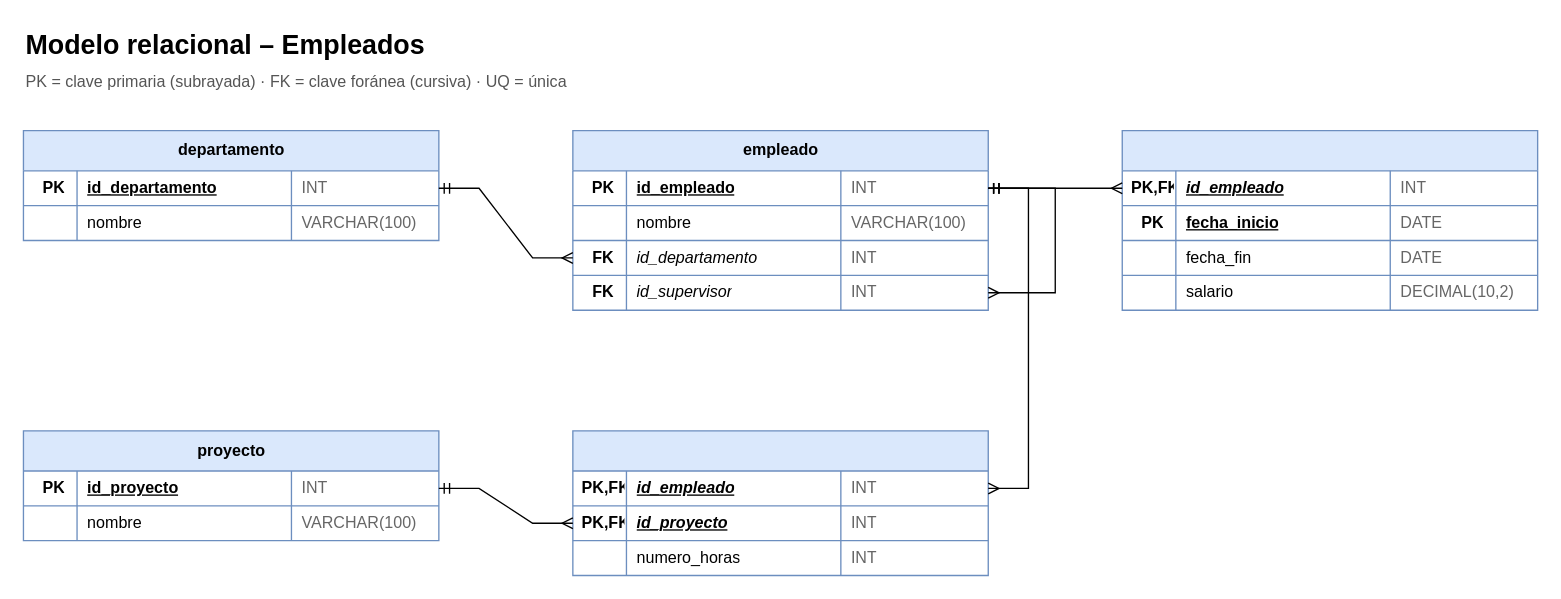
Image size: 1561x599. Some labels were removed from this diagram. Each missing label, with the box of its shape:
historial_salario: (1121, 129, 1538, 310)
trabaja: (572, 429, 988, 576)
